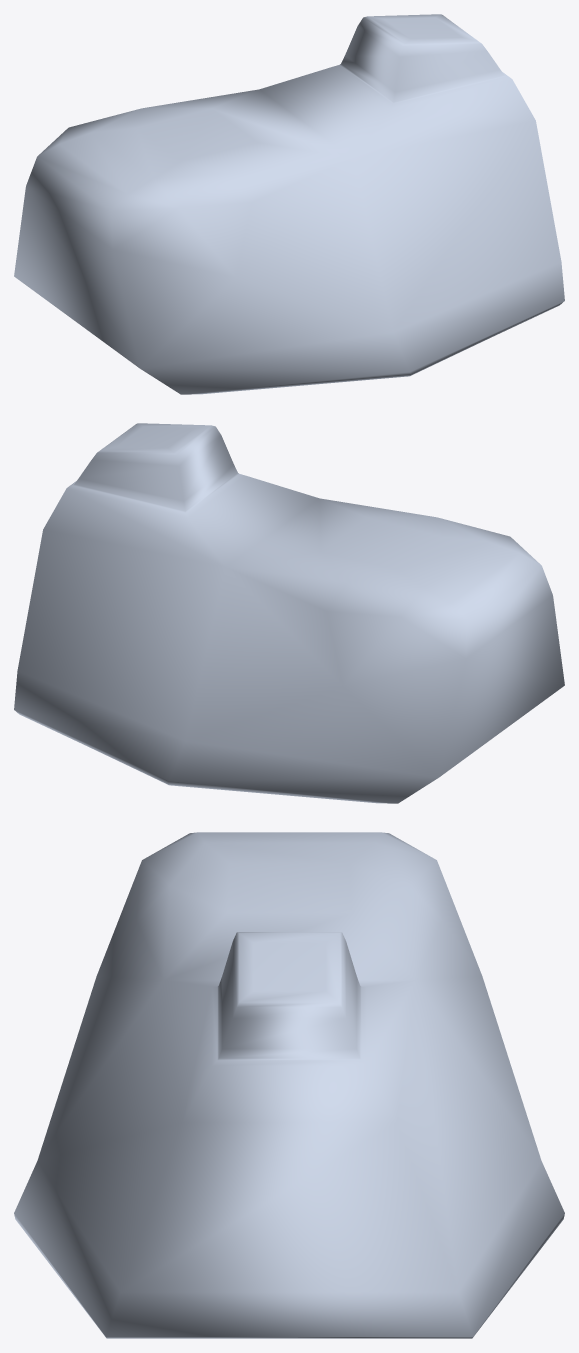
Rendered from roca_Ice.fbx.
The picture shows the model from 3 angles, top to bottom: view 1: azimuth 30°, elevation 25°; view 2: azimuth 150°, elevation 25°; view 3: azimuth 270°, elevation 25°; orthographic projection. The views are drawn at different scales.
Visible parts, largest first — view 1: Ice01; view 2: Ice01; view 3: Ice01.
Boxes of the visible parts, x1=… form: Ice01: x1=14, y1=14, x2=564, y2=394; Ice01: x1=14, y1=423, x2=564, y2=803; Ice01: x1=14, y1=832, x2=564, y2=1338.
Size of the model in its own units: 457 by 259 by 379.
